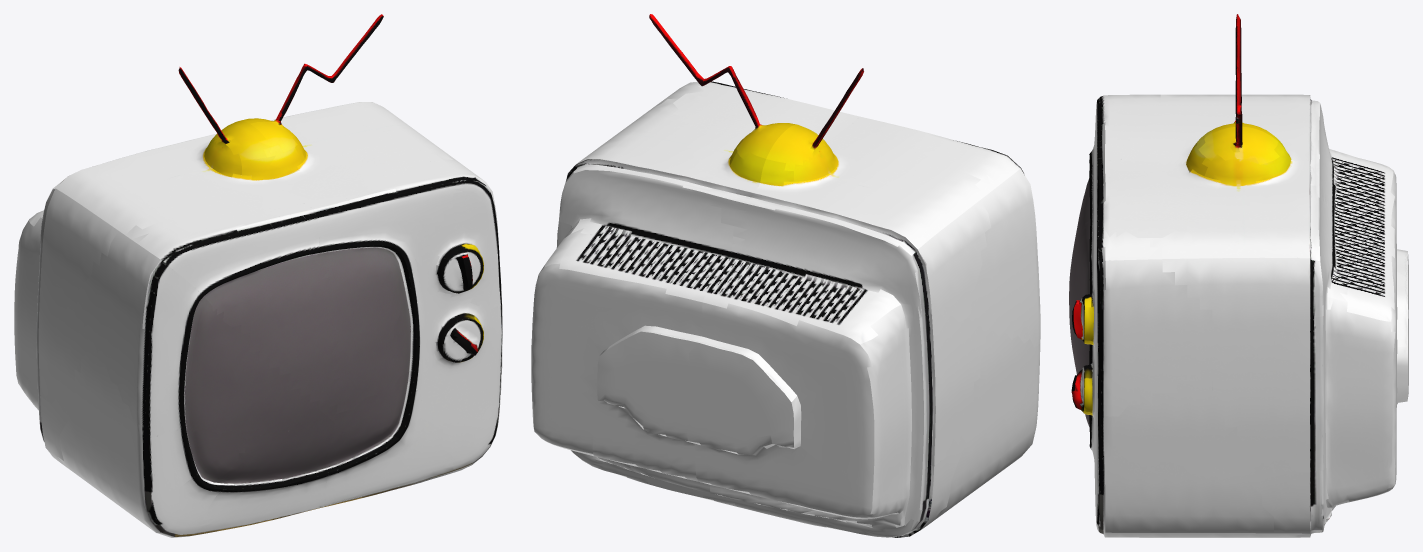
Rendered from prop_tv.glb.
The picture shows the model from 3 angles, left to right: view 1: azimuth 30°, elevation 25°; view 2: azimuth 150°, elevation 25°; view 3: azimuth 270°, elevation 25°; orthographic projection. The views are drawn at different scales.
Bounding box in the file's own units: 1.74 × 1.9 × 1.39.
Materials: 1 (1 with a texture image).
